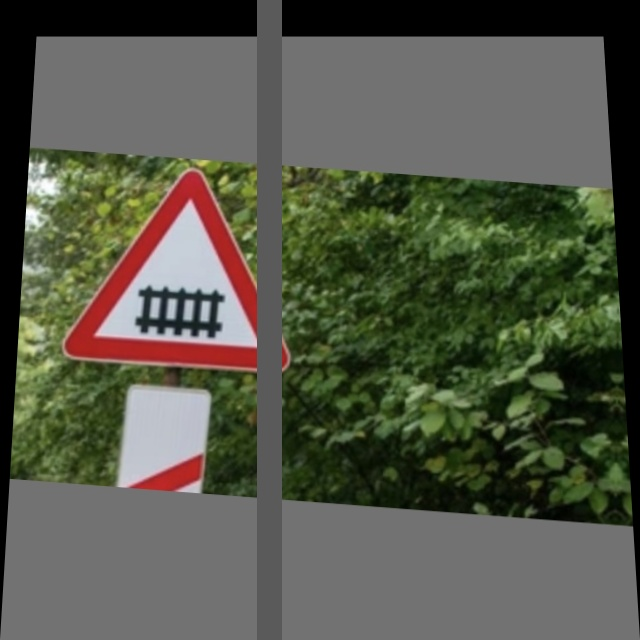Guarded_Level_Crossing: (63, 168, 298, 371)
